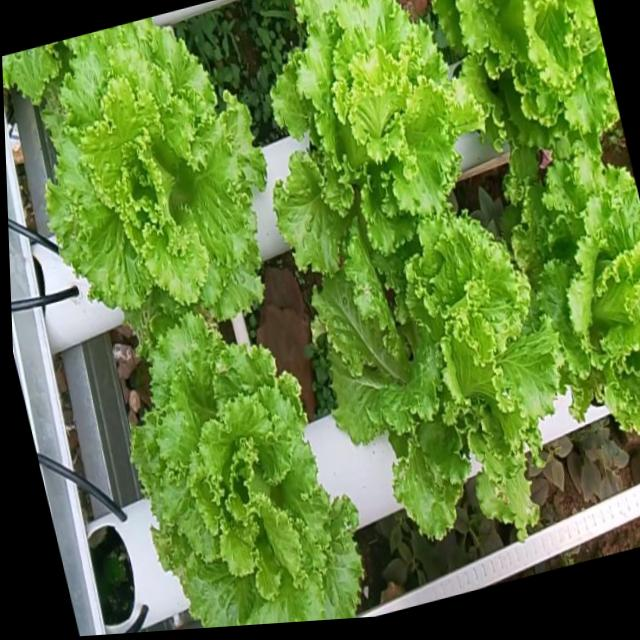Mature: (318, 211, 565, 591), (5, 16, 271, 343), (134, 314, 368, 628), (277, 0, 490, 279), (519, 160, 640, 440), (442, 0, 624, 181)
